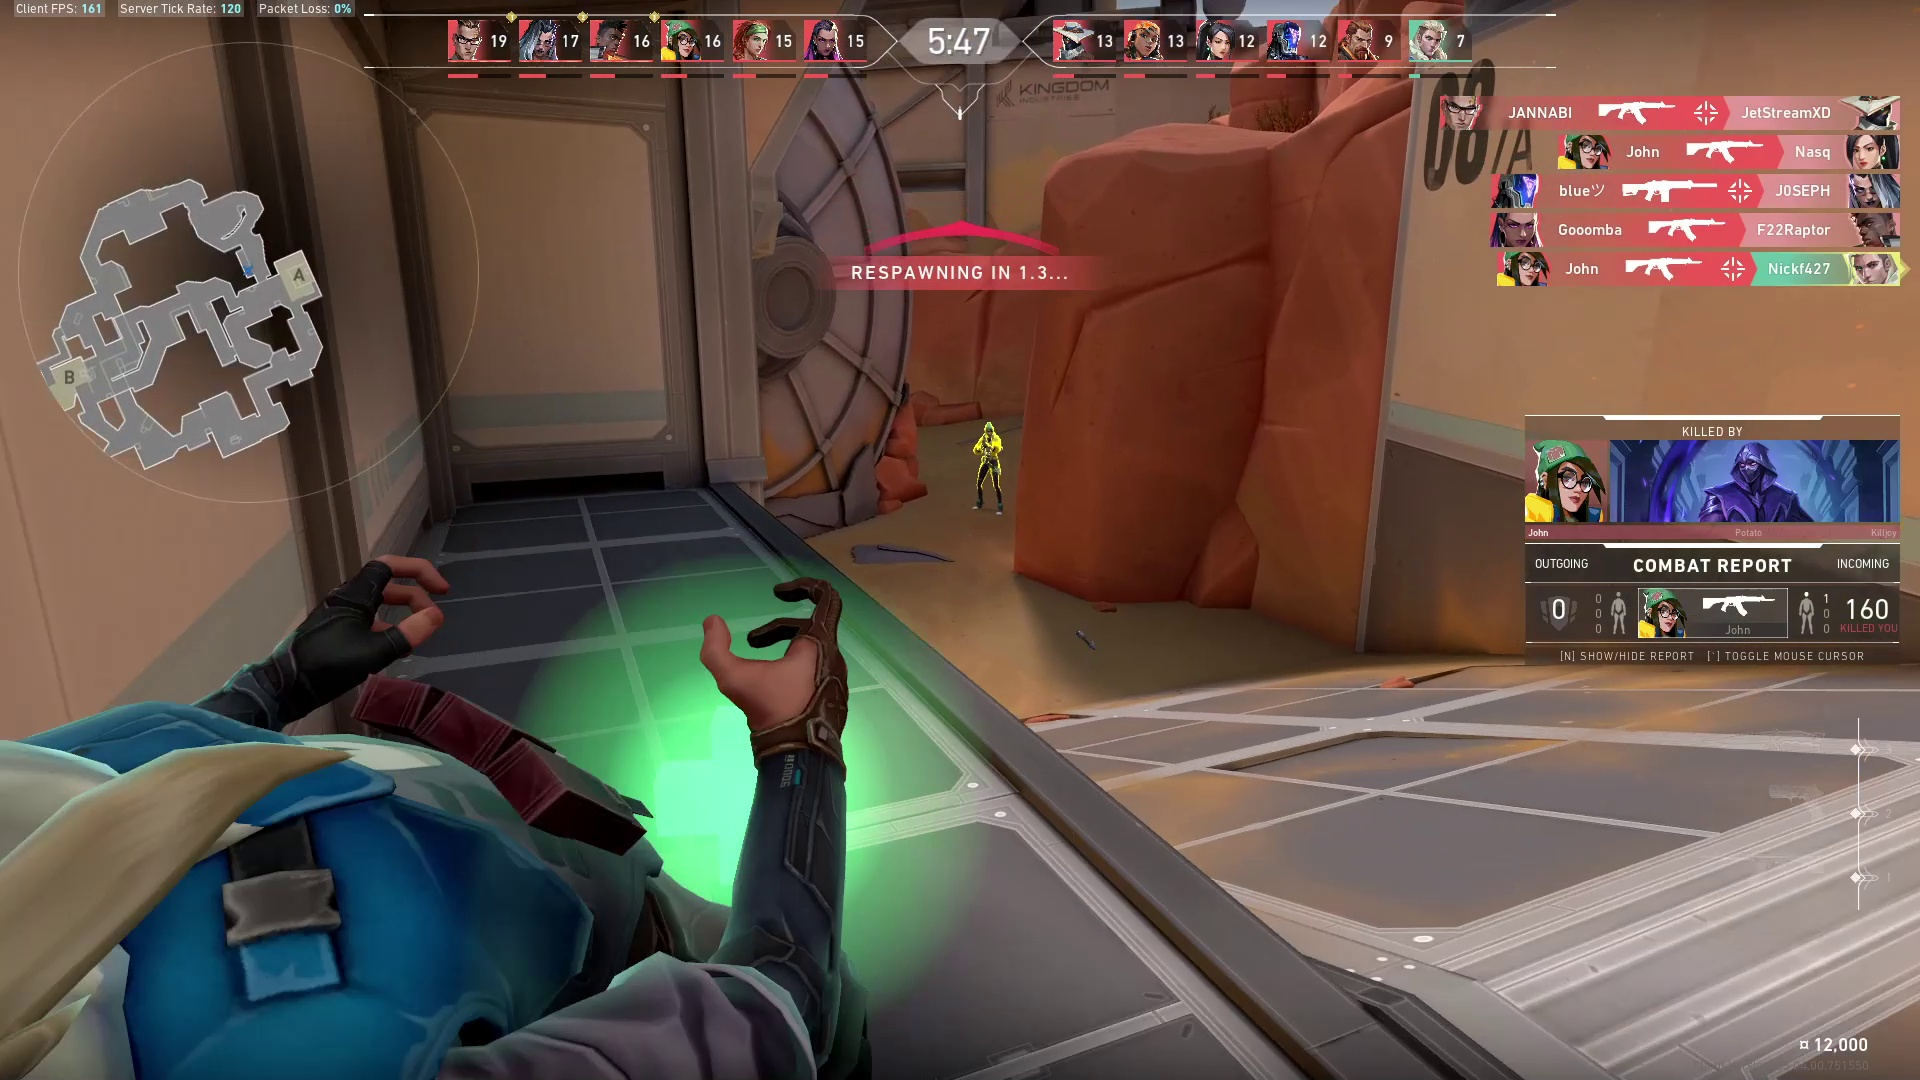enemy_body: (972, 438, 1007, 520)
enemy_head: (980, 418, 997, 439)
